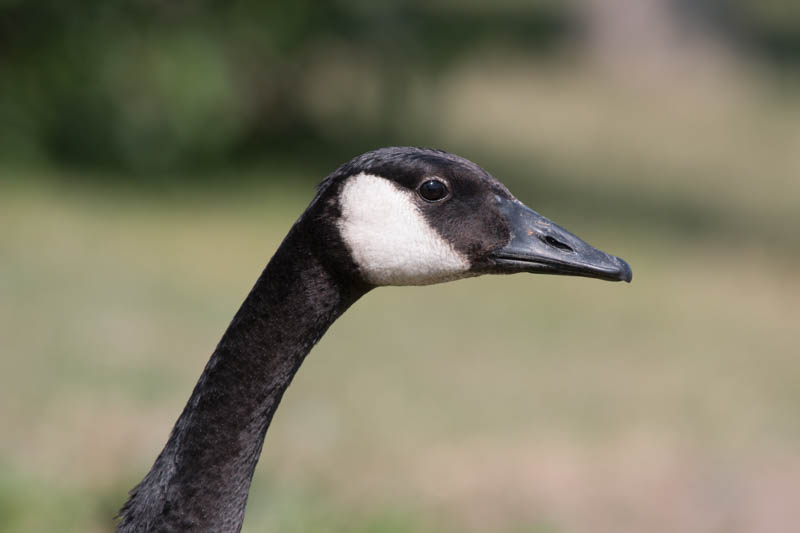goose-head: (307, 146, 633, 285)
